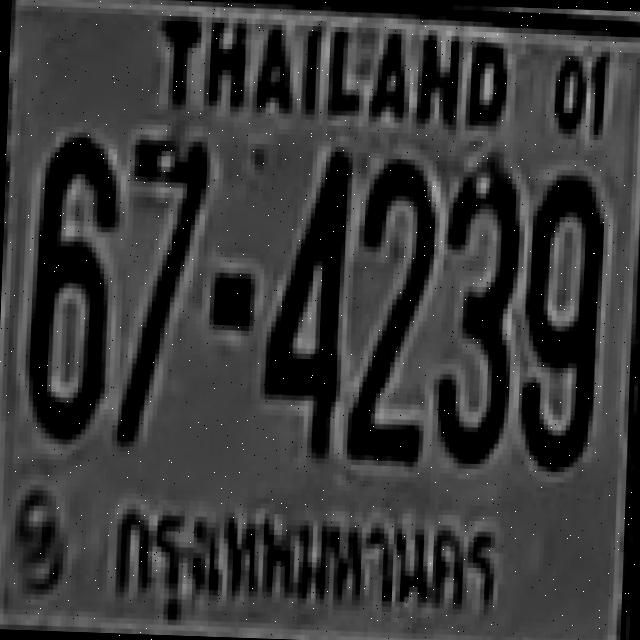0: (523, 168, 601, 364)
3: (428, 215, 512, 457)
4: (258, 141, 348, 451)
7: (124, 134, 206, 324)
9: (516, 234, 598, 465)
Bangkok: (100, 484, 518, 632)
